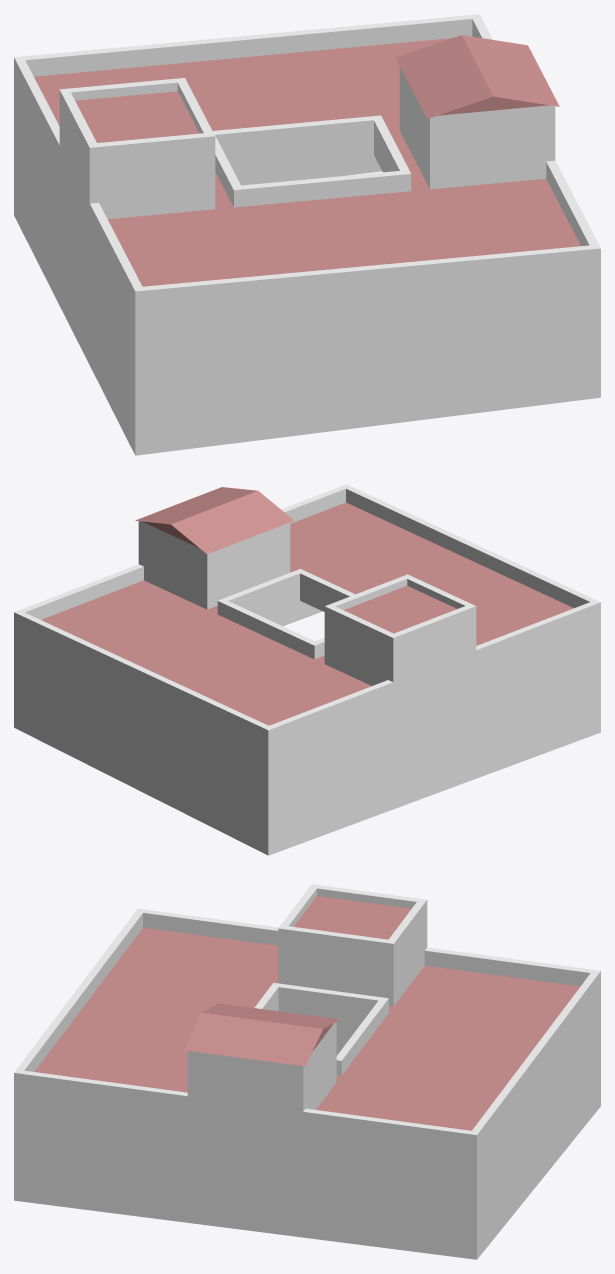
The model's file is LOD_Block_2_18.glb.
3 views of the same model, one above another, from view 1: azimuth 30°, elevation 25°; view 2: azimuth 150°, elevation 25°; view 3: azimuth 270°, elevation 25° (orthographic). The views are drawn at different scales.
Visible parts, largest first — view 1: mesh_CityEngineMaterial_252; view 2: mesh_CityEngineMaterial_252; view 3: mesh_CityEngineMaterial_252.
Boxes of the visible parts, x1=… form: mesh_CityEngineMaterial_252: x1=14, y1=14, x2=600, y2=455; mesh_CityEngineMaterial_252: x1=14, y1=484, x2=600, y2=855; mesh_CityEngineMaterial_252: x1=14, y1=884, x2=600, y2=1259.
Bounding box in the file's own units: 32.84 × 13.63 × 35.95.
